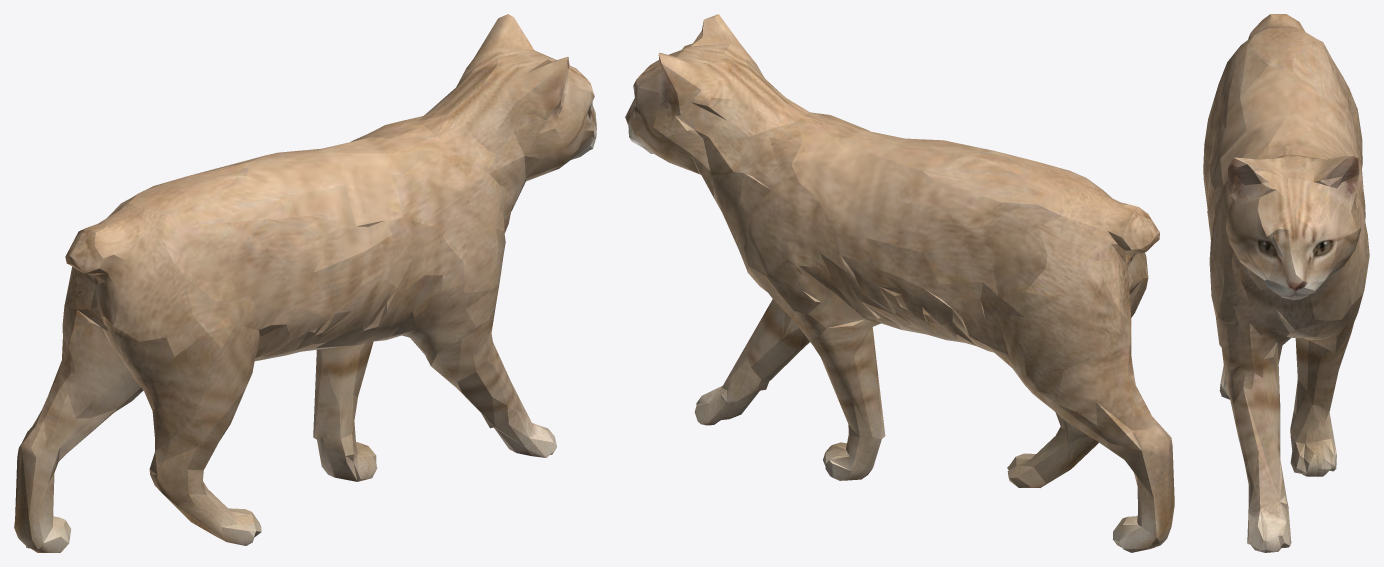
The model's file is MAYORSTUB-lo.glb.
3 renders of one model, left to right at view 1: azimuth 30°, elevation 25°; view 2: azimuth 150°, elevation 25°; view 3: azimuth 270°, elevation 25°, orthographic. The views are drawn at different scales.
Parts seen in each view (by area): view 1: output_unwrapped; view 2: output_unwrapped; view 3: output_unwrapped.
Part boxes in pixels (bbox=[...]): output_unwrapped: bbox=[14, 14, 596, 552]; output_unwrapped: bbox=[625, 14, 1174, 552]; output_unwrapped: bbox=[1203, 14, 1369, 552].
Bounding box in the file's own units: 1.47 × 1 × 0.3789.
Materials: 1 (1 with a texture image).
